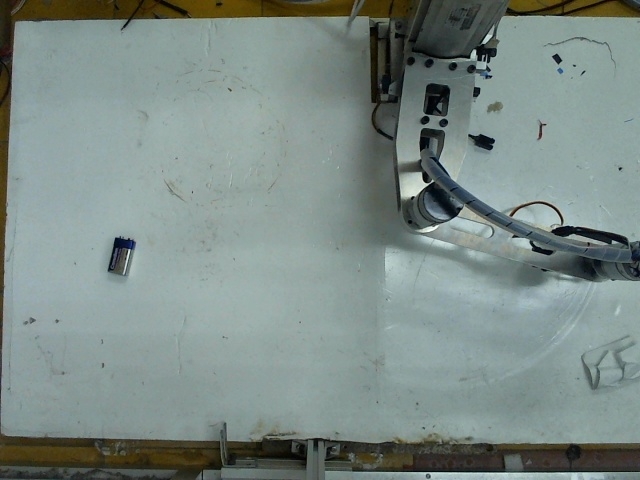battery: (107, 232, 138, 276)
